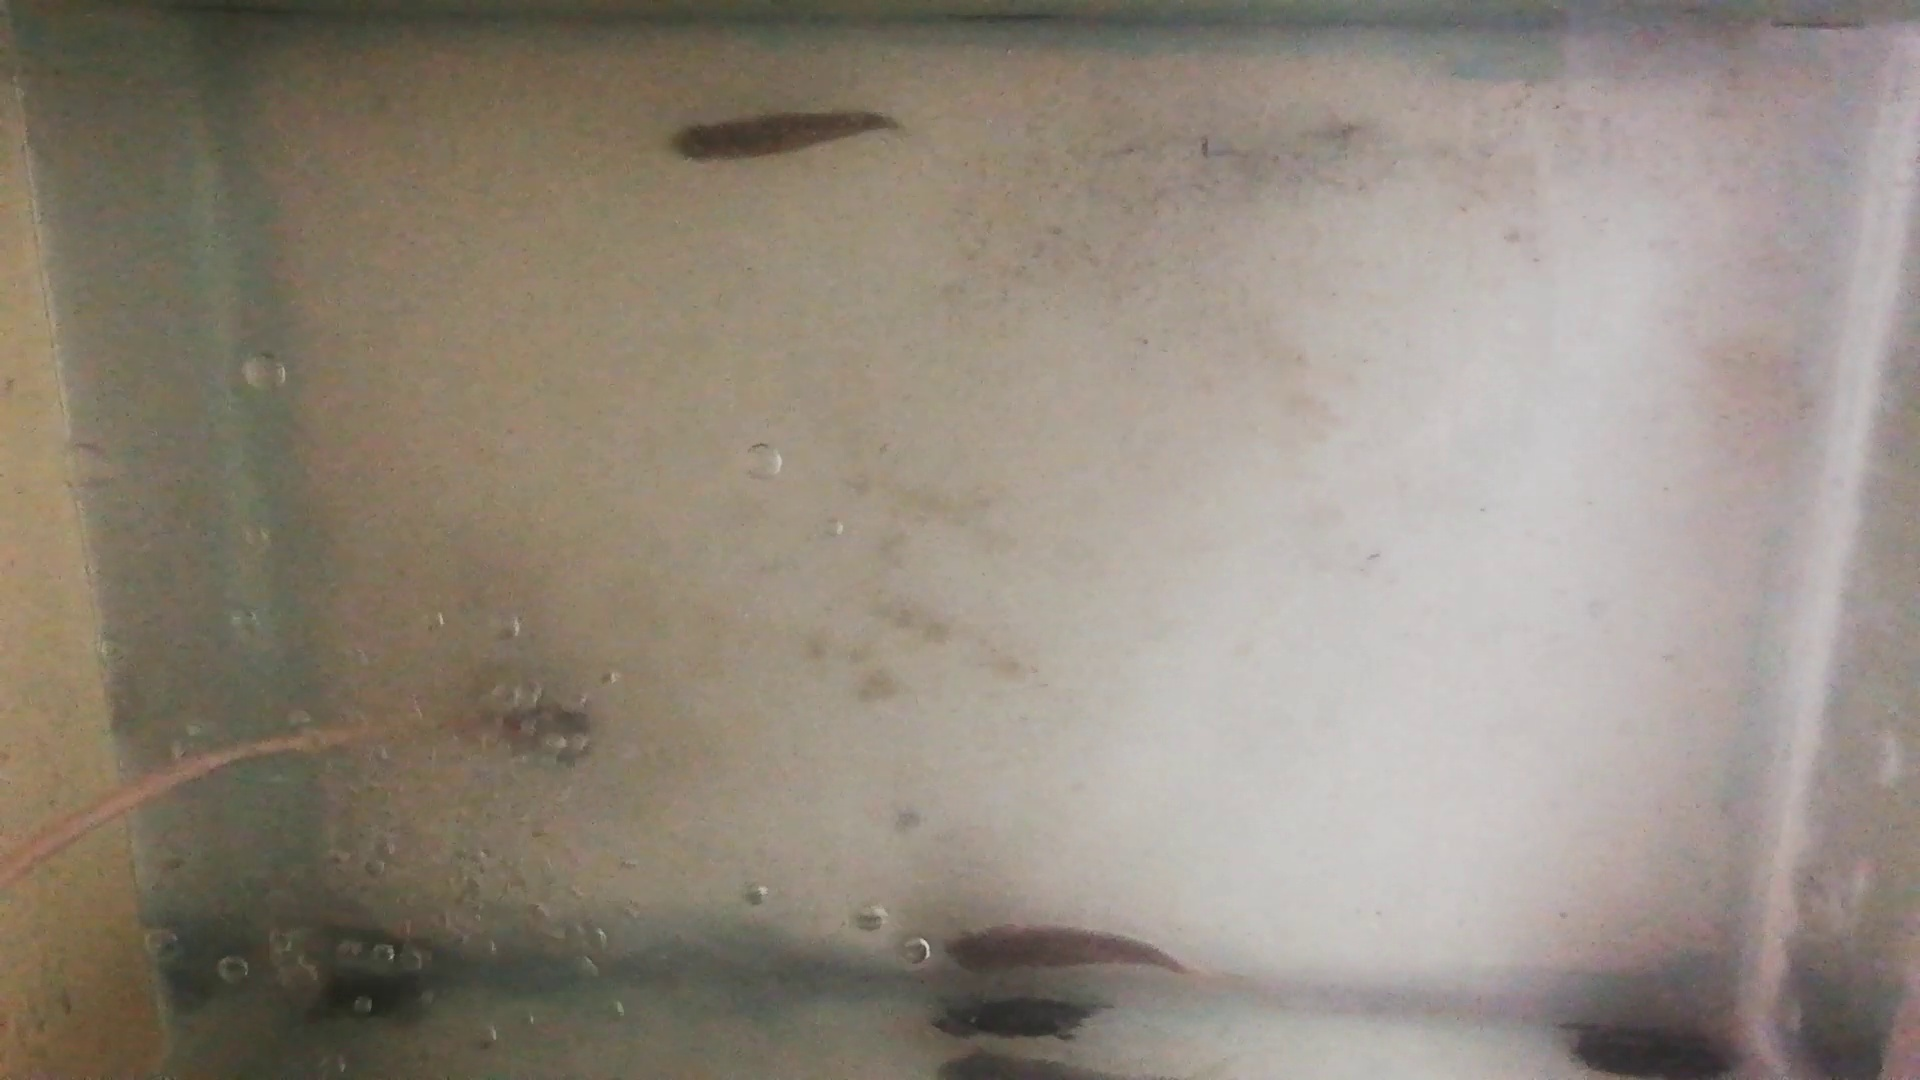fish: (944, 920, 1183, 980), (669, 109, 898, 162)
